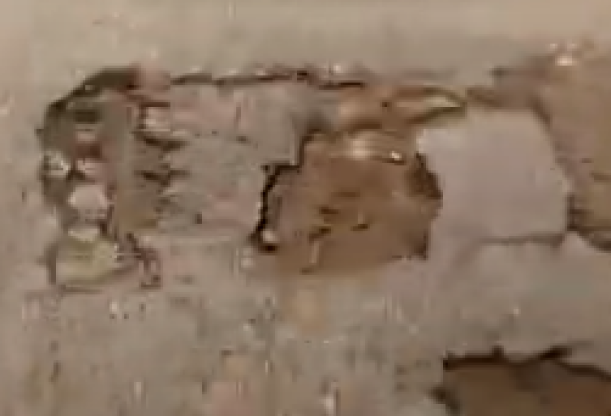Berlubang: (25, 55, 610, 300), (397, 326, 611, 416)
